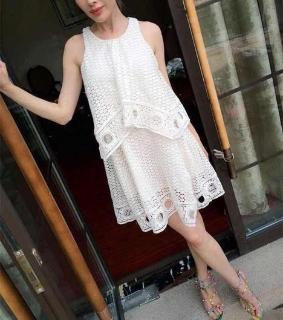skirt: (99, 104, 225, 234)
vest dress: (80, 17, 190, 161)
